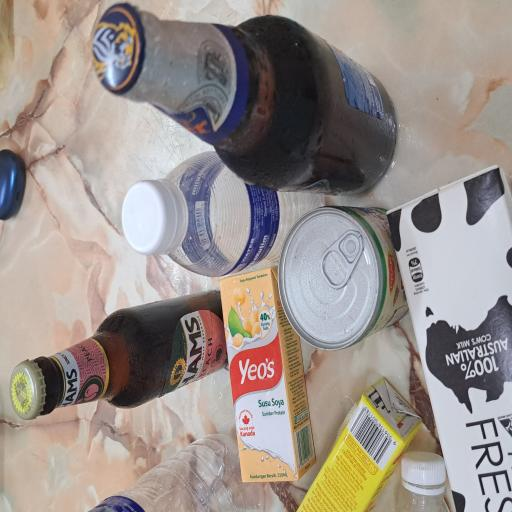can: (119, 370, 230, 512)
drink carton: (22, 292, 184, 423), (0, 394, 103, 512)
glass bottle: (234, 120, 384, 512), (69, 14, 167, 302)
plastic bottle: (176, 215, 271, 431), (0, 114, 59, 353)
plastic bottle cap: (193, 162, 249, 246)
pop tab: (166, 426, 212, 484)
